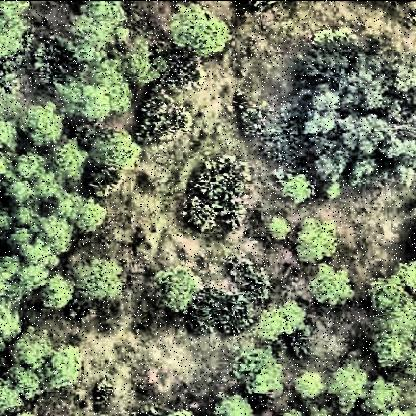tree-top: (307, 31, 416, 195), (183, 154, 253, 232), (166, 2, 236, 62), (25, 37, 91, 88), (123, 29, 169, 89), (152, 264, 202, 314), (233, 354, 283, 402), (289, 216, 338, 264), (253, 302, 309, 344), (93, 126, 144, 172), (365, 278, 413, 326), (78, 3, 131, 43), (307, 259, 353, 305), (325, 363, 367, 412), (43, 344, 85, 388), (370, 327, 412, 371), (24, 105, 66, 149), (14, 325, 52, 371), (2, 2, 31, 62), (82, 260, 124, 301), (277, 169, 319, 207), (49, 140, 87, 182), (368, 372, 404, 415), (71, 198, 109, 236), (74, 85, 114, 121), (37, 219, 75, 255), (1, 175, 36, 214), (38, 273, 72, 310), (13, 147, 49, 181), (293, 373, 325, 401), (211, 398, 258, 416), (21, 261, 49, 290), (15, 371, 43, 397), (263, 218, 292, 242)
